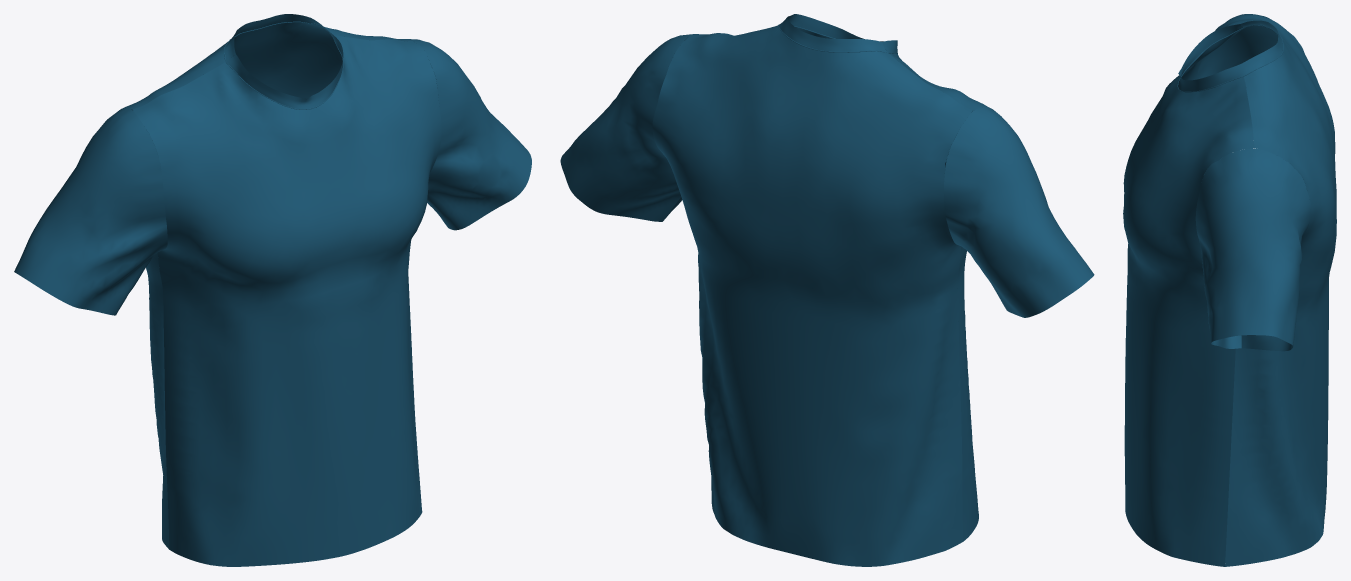
Rendered from T-Shirt.FBX.
3 renders of one model, left to right at view 1: azimuth 30°, elevation 25°; view 2: azimuth 150°, elevation 25°; view 3: azimuth 270°, elevation 25°, orthographic. The views are drawn at different scales.
Visible parts, largest first — view 1: T-shirt; view 2: T-shirt; view 3: T-shirt, Seam.
Part boxes in pixels (x1,y1,x2,y2): T-shirt: (14, 14, 531, 566); T-shirt: (560, 14, 1094, 566); T-shirt: (1123, 14, 1336, 566); Seam: (1177, 24, 1283, 92).
Size of the model in its own units: 25.11 by 23.22 by 9.39.
